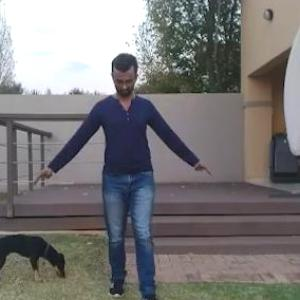land: (52, 56, 208, 299)
